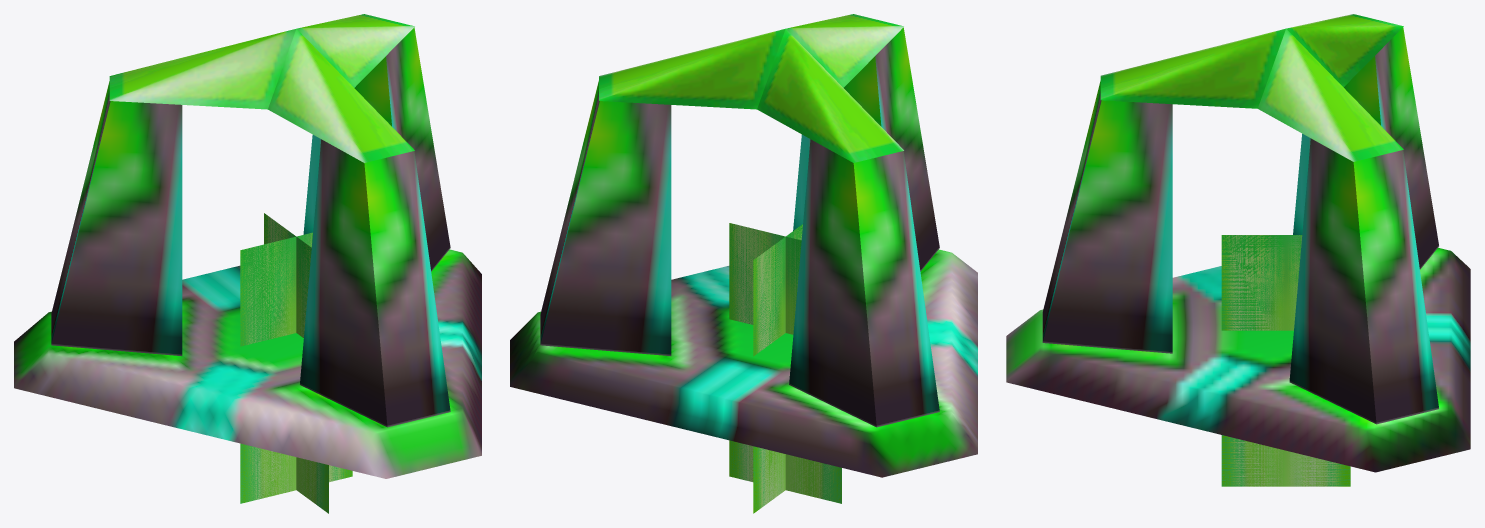
File: datan_common_acptwr2_3468410b.obj
3 renders of one model, left to right at view 1: azimuth 30°, elevation 25°; view 2: azimuth 150°, elevation 25°; view 3: azimuth 270°, elevation 25°, orthographic.
Visible parts, largest first — view 1: datan_common_acptwr2_3468410b_mesh01, datan_common_acptwr2_3468410b_mesh00, datan_common_acptwr2_3468410b_mesh02, datan_common_acptwr2_3468410b_mesh03, datan_common_acptwr2_3468410b_mesh04; view 2: datan_common_acptwr2_3468410b_mesh01, datan_common_acptwr2_3468410b_mesh00, datan_common_acptwr2_3468410b_mesh04, datan_common_acptwr2_3468410b_mesh03, datan_common_acptwr2_3468410b_mesh02; view 3: datan_common_acptwr2_3468410b_mesh01, datan_common_acptwr2_3468410b_mesh00, datan_common_acptwr2_3468410b_mesh02, datan_common_acptwr2_3468410b_mesh03, datan_common_acptwr2_3468410b_mesh04.
Boxes of the visible parts, x1,y1,x2,y2 form: datan_common_acptwr2_3468410b_mesh01: [51, 27, 450, 427]; datan_common_acptwr2_3468410b_mesh00: [14, 14, 481, 478]; datan_common_acptwr2_3468410b_mesh02: [241, 233, 351, 512]; datan_common_acptwr2_3468410b_mesh03: [243, 214, 349, 511]; datan_common_acptwr2_3468410b_mesh04: [240, 213, 352, 513]; datan_common_acptwr2_3468410b_mesh01: [540, 27, 939, 427]; datan_common_acptwr2_3468410b_mesh00: [510, 14, 977, 477]; datan_common_acptwr2_3468410b_mesh04: [729, 223, 841, 513]; datan_common_acptwr2_3468410b_mesh03: [732, 224, 799, 512]; datan_common_acptwr2_3468410b_mesh02: [730, 224, 802, 512]; datan_common_acptwr2_3468410b_mesh01: [1042, 27, 1438, 424]; datan_common_acptwr2_3468410b_mesh00: [1006, 14, 1470, 472]; datan_common_acptwr2_3468410b_mesh02: [1223, 235, 1349, 486]; datan_common_acptwr2_3468410b_mesh03: [1225, 235, 1347, 486]; datan_common_acptwr2_3468410b_mesh04: [1221, 235, 1350, 486].
Size of the model in its own units: 1.57 by 1.48 by 1.36.
Materials: 1 (1 with a texture image).
